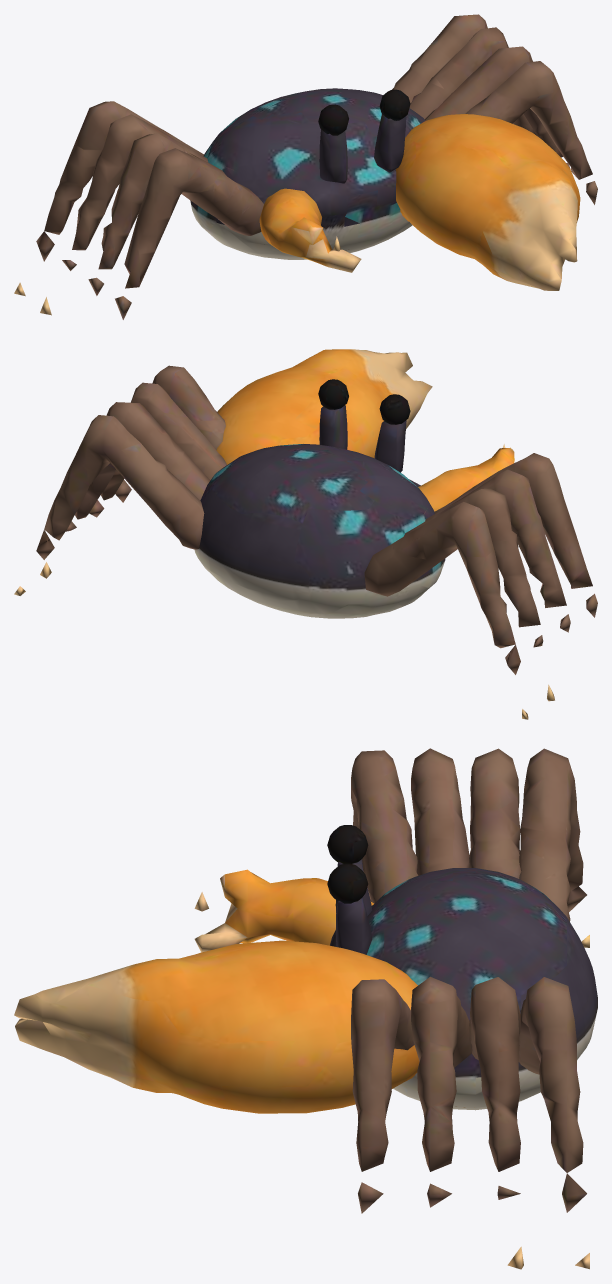
File: fiddler_crab.glb
The picture shows the model from 3 angles, top to bottom: view 1: azimuth 30°, elevation 25°; view 2: azimuth 150°, elevation 25°; view 3: azimuth 270°, elevation 25°; orthographic projection. The views are drawn at different scales.
Parts seen in each view (by area): view 1: claw1, fiddler_crab, leg0, leg4, claw0, leg3, leg2, leg1, leg5, leg6, leg7; view 2: fiddler_crab, claw1, leg7, leg3, leg0, leg1, leg6, leg2, leg5, leg4, claw0; view 3: claw1, fiddler_crab, leg7, leg4, leg3, leg5, claw0, leg6, leg0, leg2, leg1.
Part boxes in pixels (<box>): claw1: <box>396,114,580,290</box>; fiddler_crab: <box>190,88,425,259</box>; leg0: <box>115,148,263,319</box>; leg4: <box>465,61,597,204</box>; claw0: <box>259,188,361,272</box>; leg3: <box>14,101,203,296</box>; leg2: <box>40,114,208,315</box>; leg1: <box>88,133,226,295</box>; leg5: <box>425,46,570,168</box>; leg6: <box>409,27,536,135</box>; leg7: <box>392,14,514,124</box>; fiddler_crab: <box>194,379,445,618</box>; claw1: <box>216,349,432,464</box>; leg7: <box>14,415,204,595</box>; leg3: <box>364,502,528,719</box>; leg0: <box>434,453,597,617</box>; leg1: <box>425,469,570,632</box>; leg6: <box>40,402,210,578</box>; leg2: <box>404,488,554,701</box>; leg5: <box>89,382,226,517</box>; leg4: <box>115,365,225,502</box>; claw0: <box>418,444,514,511</box>; claw1: <box>14,940,419,1113</box>; fiddler_crab: <box>327,825,597,1110</box>; leg7: <box>519,977,589,1269</box>; leg4: <box>351,979,414,1213</box>; leg3: <box>519,748,589,947</box>; leg5: <box>411,976,472,1207</box>; claw0: <box>194,869,373,952</box>; leg6: <box>469,977,523,1269</box>; leg0: <box>351,750,418,903</box>; leg2: <box>469,748,521,878</box>; leg1: <box>411,748,469,875</box>.
Bounding box in the file's own units: 0.1694 × 0.0637 × 0.128.
1 material, 1 textured.
